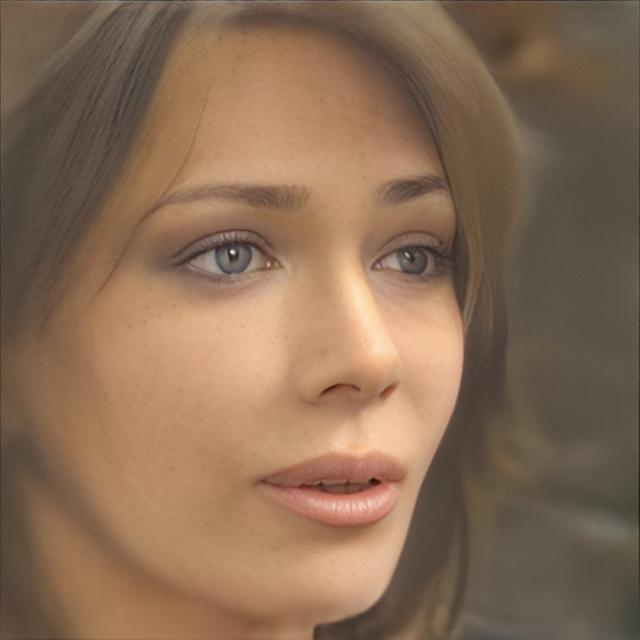surprise: (1, 19, 465, 626)
